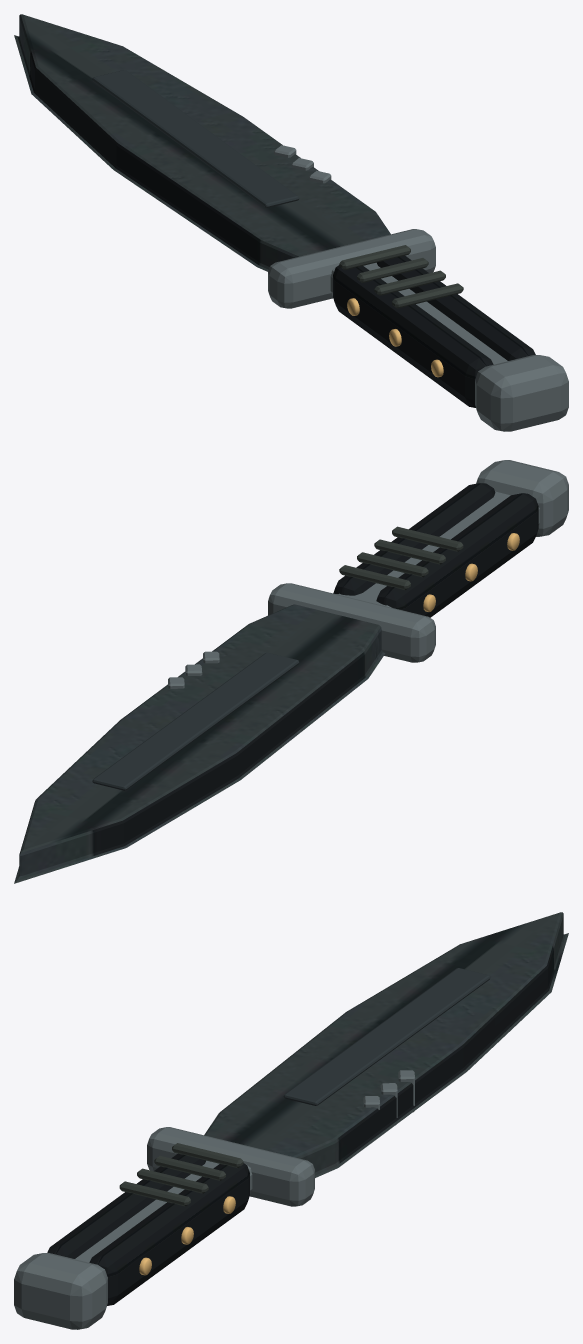
Rendered from pass65-field-knife-drop-lod0.glb.
The picture shows the model from 3 angles, top to bottom: view 1: azimuth 30°, elevation 25°; view 2: azimuth 150°, elevation 25°; view 3: azimuth 330°, elevation 25°; orthographic projection.
Parts seen in each view (by area): view 1: FieldKnife_Blade_drop-lod0_Mesh, Cube_001.063, field-knife-fuller, Cube_001.071, Cube_001.060, Cube_001.062, Cube_001.061, Cube_001.066, Cube_001.067, Cube_001.065, Cube_001.064; view 2: FieldKnife_Blade_drop-lod0_Mesh, Cube_001.063, field-knife-fuller, Cube_001.060, Cube_001.071, Cube_001.062, Cube_001.061, Cube_001.064, Cube_001.065, Cube_001.066, Cube_001.067; view 3: FieldKnife_Blade_drop-lod0_Mesh, Cube_001.062, field-knife-fuller, Cube_001.071, Cube_001.060, Cube_001.063, Cube_001.061, Cube_001.066, Cube_001.067, Cube_001.065, Cube_001.064.
Part boxes in pixels (left/top/right/bottom): FieldKnife_Blade_drop-lod0_Mesh: left=14, top=14, right=390, bottom=271; Cube_001.063: left=333, top=265, right=493, bottom=407; field-knife-fuller: left=92, top=70, right=299, bottom=207; Cube_001.071: left=475, top=355, right=568, bottom=431; Cube_001.060: left=268, top=229, right=435, bottom=308; Cube_001.062: left=377, top=255, right=535, bottom=360; Cube_001.061: left=330, top=262, right=507, bottom=364; Cube_001.066: left=374, top=270, right=445, bottom=295; Cube_001.067: left=392, top=283, right=463, bottom=308; Cube_001.065: left=357, top=258, right=428, bottom=282; Cube_001.064: left=339, top=245, right=410, bottom=270; FieldKnife_Blade_drop-lod0_Mesh: left=14, top=604, right=385, bottom=883; Cube_001.063: left=376, top=493, right=538, bottom=617; field-knife-fuller: left=92, top=652, right=299, bottom=790; Cube_001.060: left=268, top=583, right=435, bottom=662; Cube_001.071: left=476, top=460, right=568, bottom=536; Cube_001.062: left=333, top=483, right=495, bottom=595; Cube_001.061: left=336, top=491, right=539, bottom=607; Cube_001.064: left=339, top=565, right=410, bottom=590; Cube_001.065: left=357, top=552, right=428, bottom=577; Cube_001.066: left=374, top=539, right=445, bottom=564; Cube_001.067: left=392, top=526, right=463, bottom=551; FieldKnife_Blade_drop-lod0_Mesh: left=204, top=912, right=568, bottom=1177; Cube_001.062: left=89, top=1163, right=249, bottom=1305; field-knife-fuller: left=283, top=968, right=490, bottom=1105; Cube_001.071: left=14, top=1253, right=107, bottom=1329; Cube_001.060: left=147, top=1127, right=314, bottom=1206; Cube_001.063: left=47, top=1153, right=205, bottom=1258; Cube_001.061: left=75, top=1160, right=252, bottom=1262; Cube_001.066: left=137, top=1168, right=208, bottom=1193; Cube_001.067: left=119, top=1181, right=190, bottom=1206; Cube_001.065: left=154, top=1156, right=225, bottom=1180; Cube_001.064: left=172, top=1143, right=243, bottom=1168.
Size of the model in its own units: 0.39 by 0.141 by 2.25.
6 materials, 2 textured.
